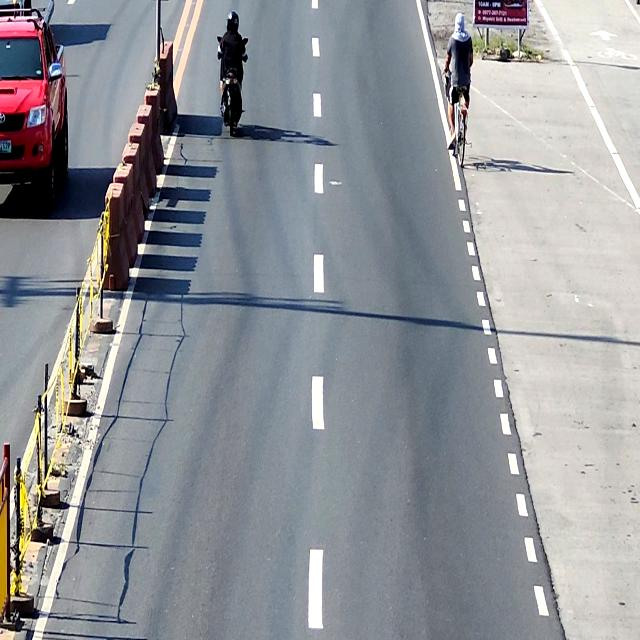Bicycle: (442, 64, 472, 168)
Car: (0, 7, 69, 211)
License-Plate: (0, 140, 12, 153)
Motorcycle: (216, 34, 249, 138)
